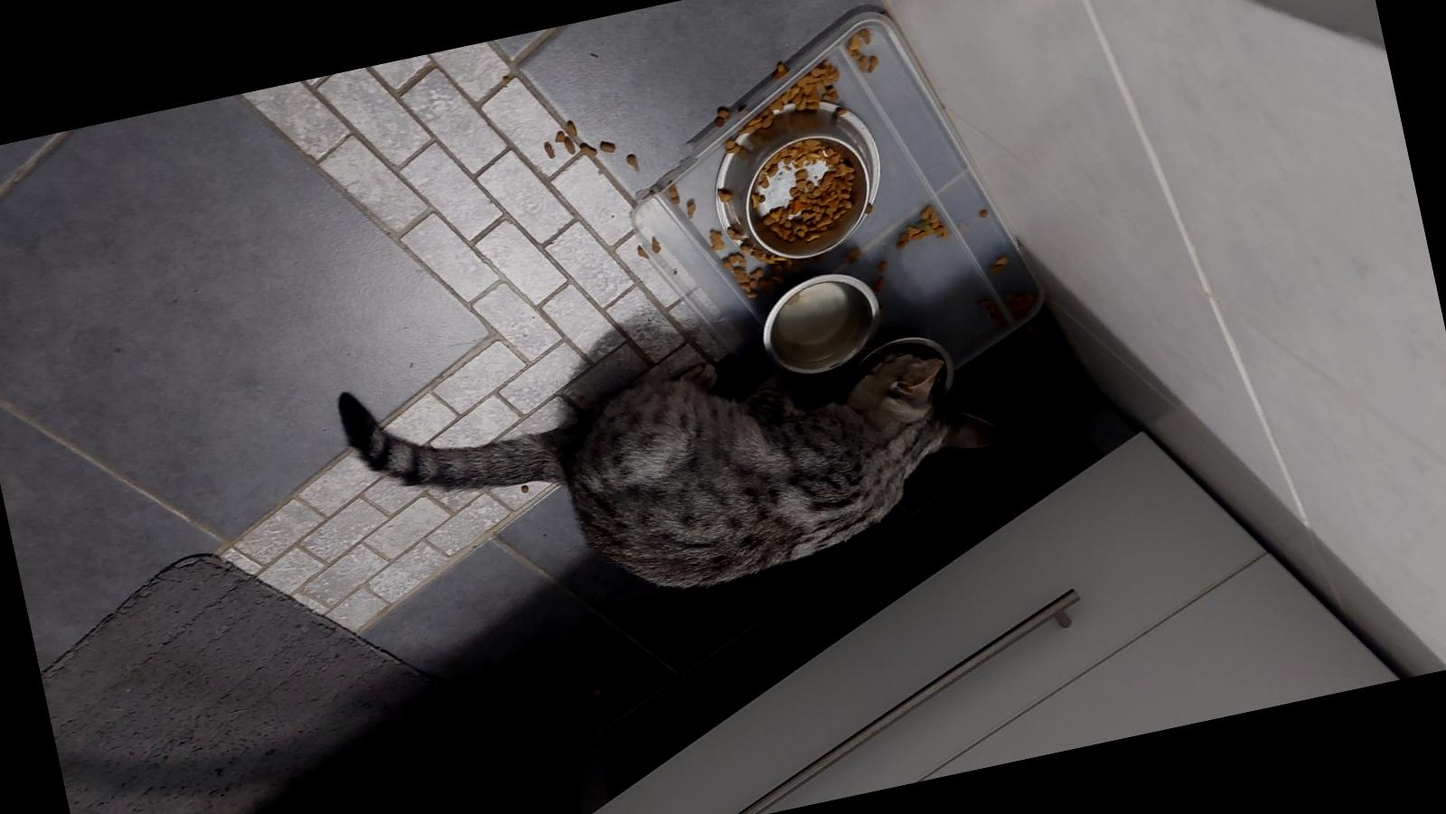macka: (332, 255, 1030, 656)
